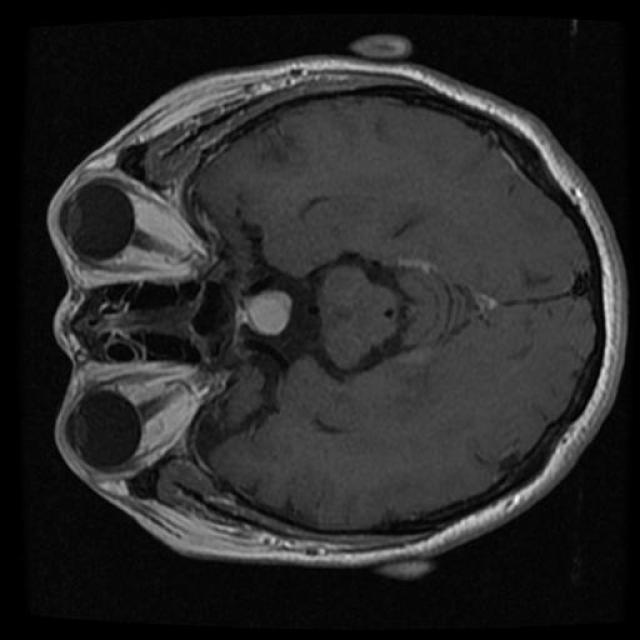Pituitary: (243, 290, 292, 334)
